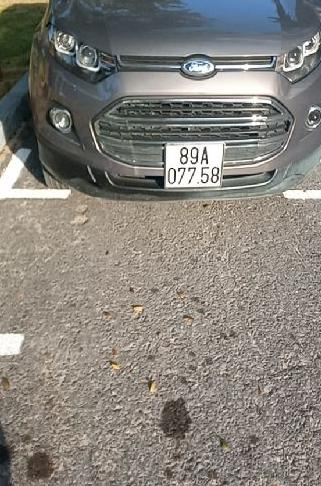Plate-iWeP: (164, 137, 227, 192)
